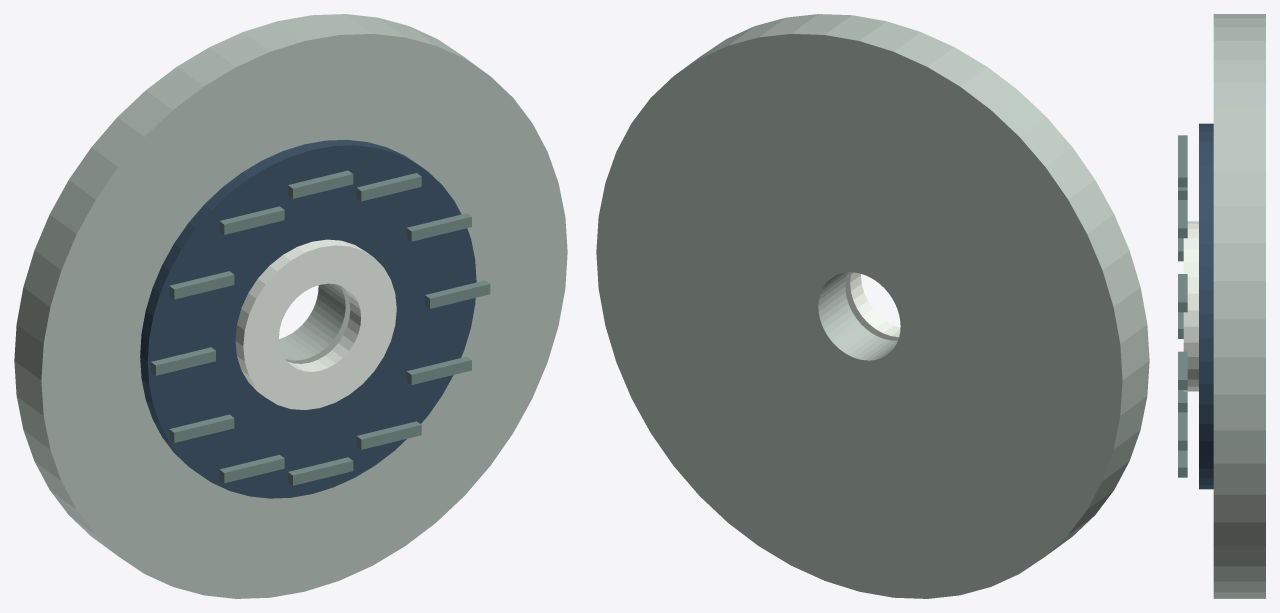
The model's file is psx_dvr_disc.glb.
3 views of the same model, side by side, from view 1: azimuth 30°, elevation 25°; view 2: azimuth 150°, elevation 25°; view 3: azimuth 270°, elevation 25° (orthographic). The views are drawn at different scales.
Parts seen in each view (by area): view 1: psx_dvr_disc; view 2: psx_dvr_disc; view 3: psx_dvr_disc.
Part boxes in pixels (x1=…): psx_dvr_disc: x1=14, y1=14, x2=567, y2=598; psx_dvr_disc: x1=596, y1=14, x2=1149, y2=598; psx_dvr_disc: x1=1178, y1=14, x2=1265, y2=598.
Bounding box in the file's own units: 0.12 × 0.12 × 0.018.
